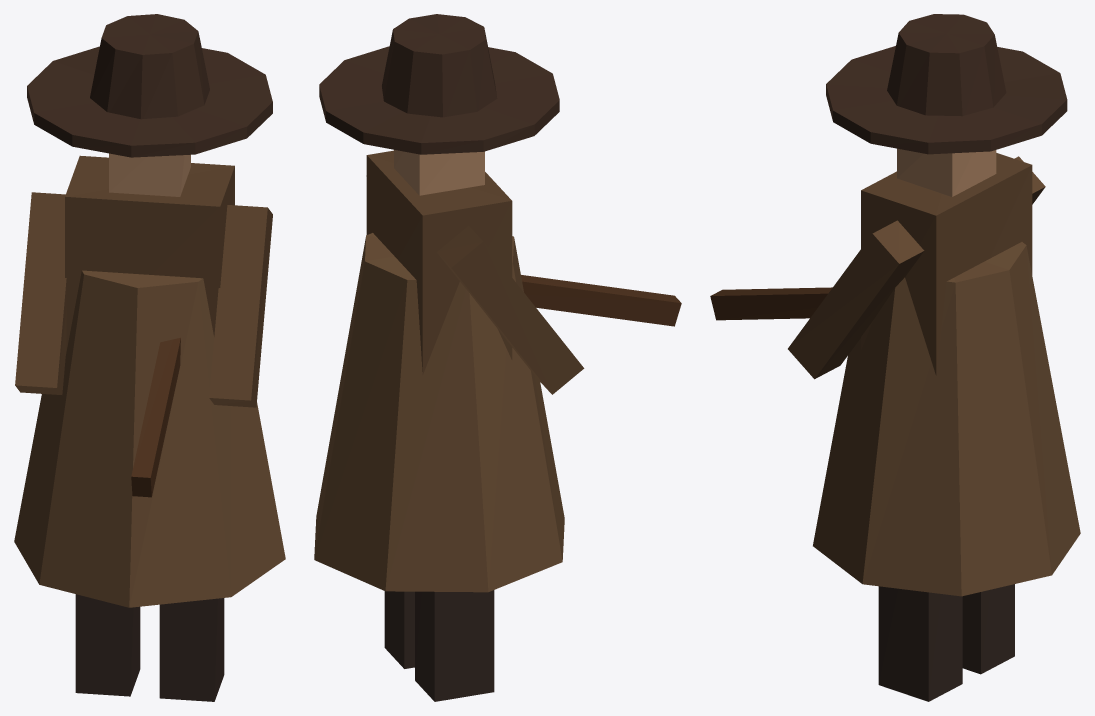
The picture shows the model from 3 angles, left to right: view 1: azimuth 30°, elevation 25°; view 2: azimuth 150°, elevation 25°; view 3: azimuth 270°, elevation 25°; orthographic projection. The views are drawn at different scales.
Visible parts, largest first — view 1: scene.panel.brasscap.sheriff; view 2: scene.panel.brasscap.sheriff; view 3: scene.panel.brasscap.sheriff.
Part boxes in pixels (x1=…): scene.panel.brasscap.sheriff: x1=14, y1=14, x2=285, y2=701; scene.panel.brasscap.sheriff: x1=314, y1=14, x2=681, y2=701; scene.panel.brasscap.sheriff: x1=710, y1=14, x2=1080, y2=701.
Size of the model in its own units: 0.9167 by 2.19 by 1.15.
